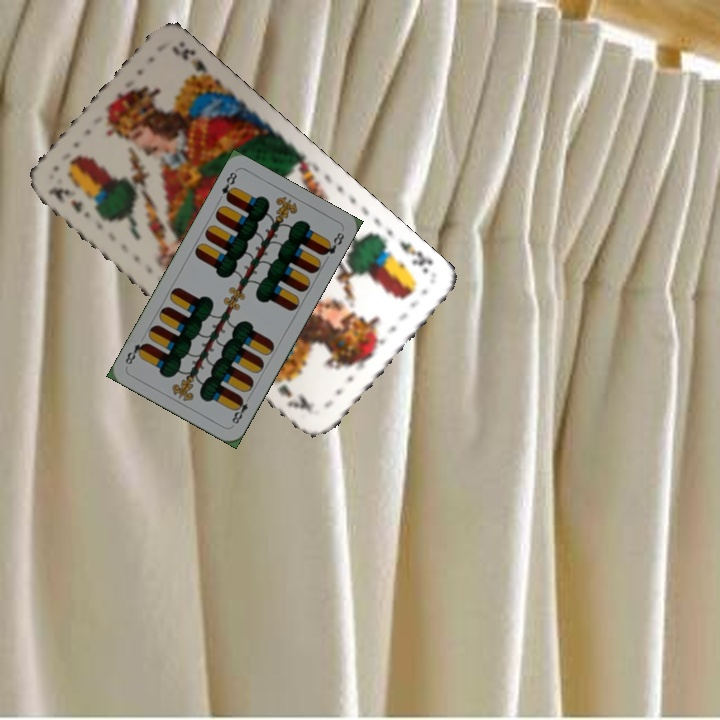E8: (228, 391, 254, 427), (218, 168, 240, 204)
EK: (44, 183, 93, 220), (395, 236, 435, 276)
